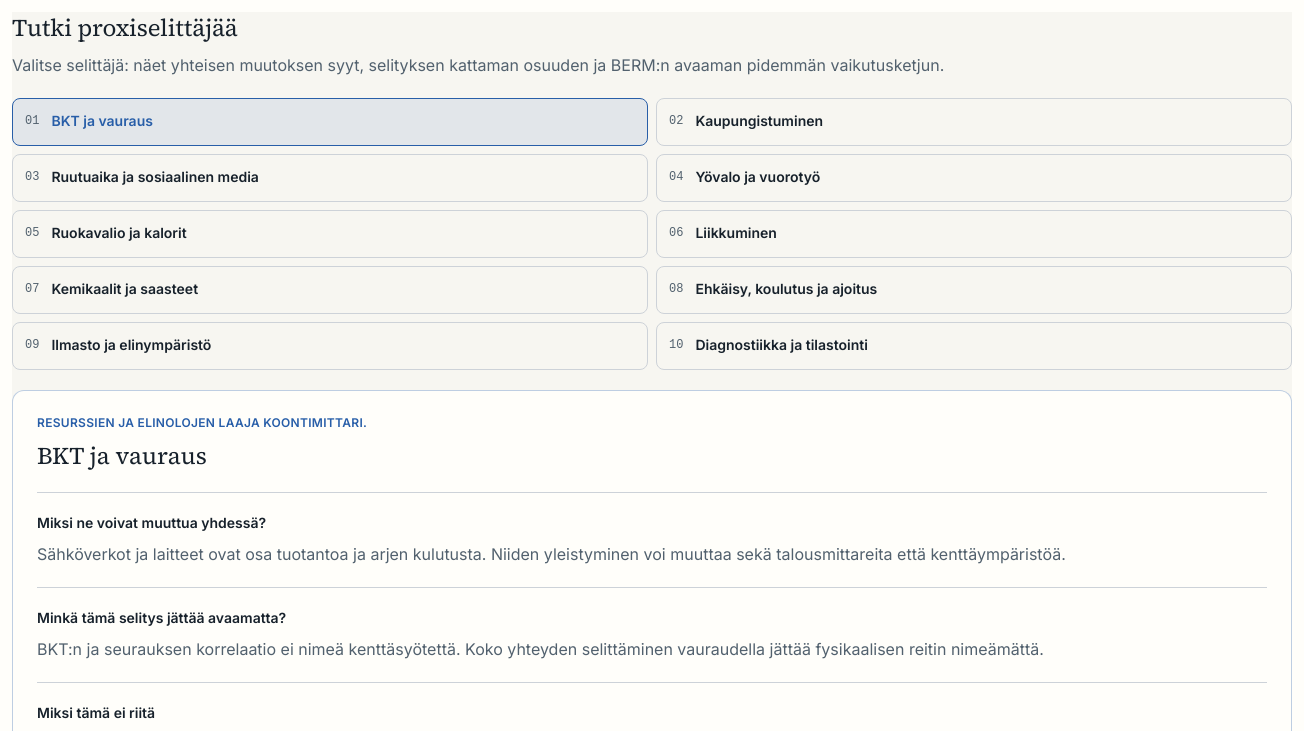
Test: changes the causal explanation and renders the selected evidence as canonical links
Check: the text "Miksi tämä ei riitä" is shown, box [37, 704, 155, 721]
Click the button "03 Ruutuaika ja sosiaalinen media": point(155, 176) [12, 154, 648, 202]
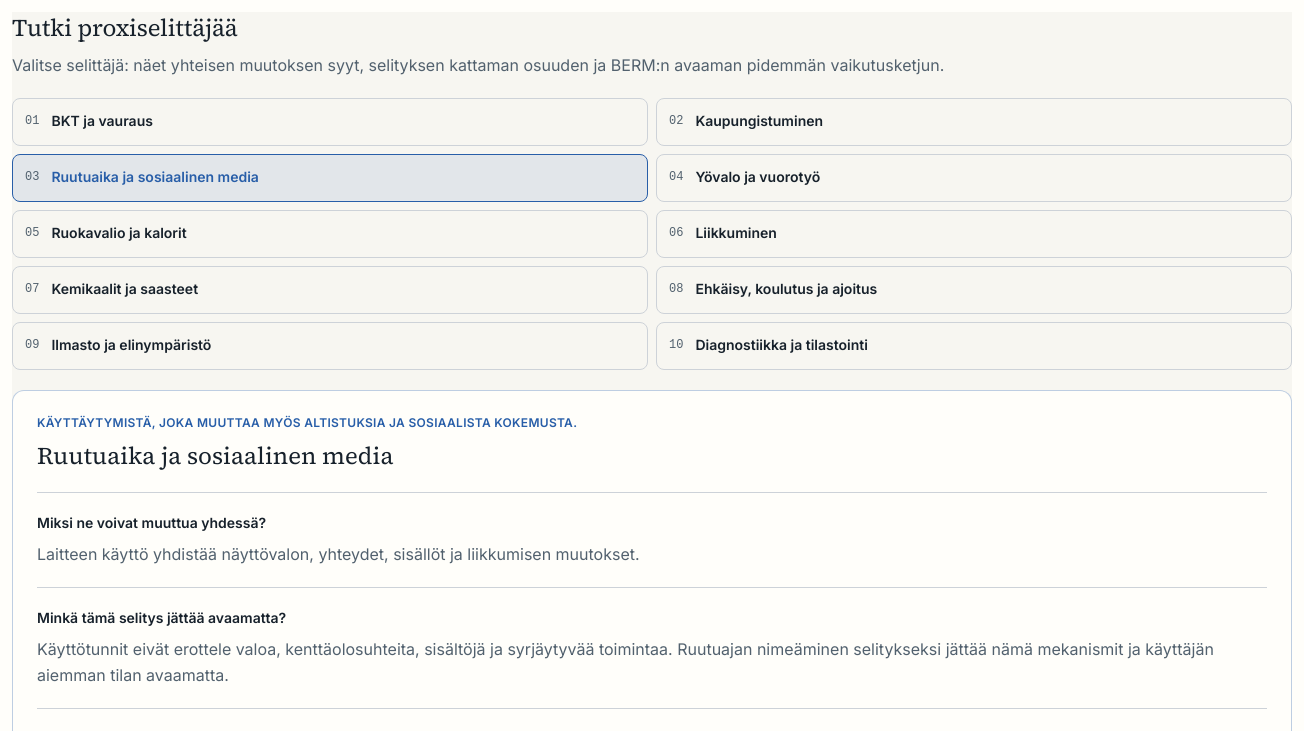
Check: the heading "Ruutuaika ja sosiaalinen media" is shown, box [37, 439, 394, 472]
Click the button "10 Diagnostiikka ja tilastointi": point(782, 344) [656, 322, 1292, 370]
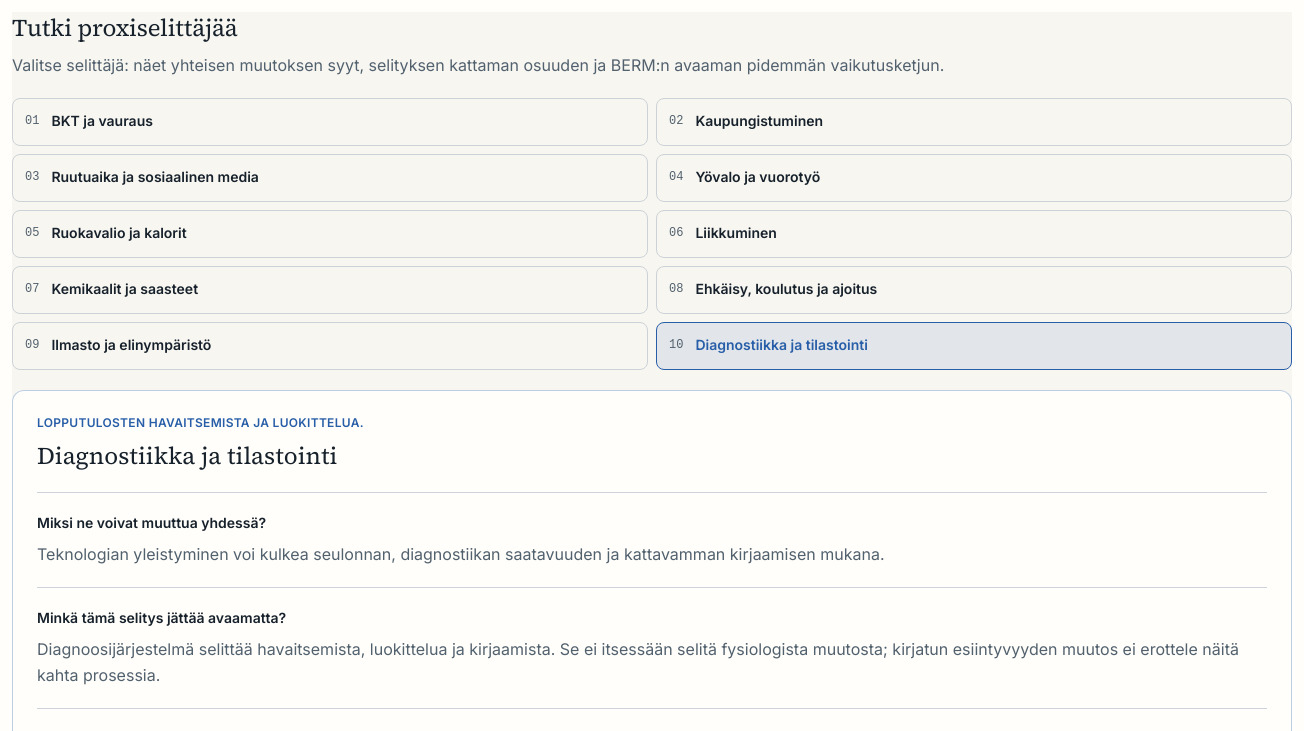
Check: the text "Se ei itsessään selitä fysiologista muutosta" is shown, box [37, 639, 1239, 685]
